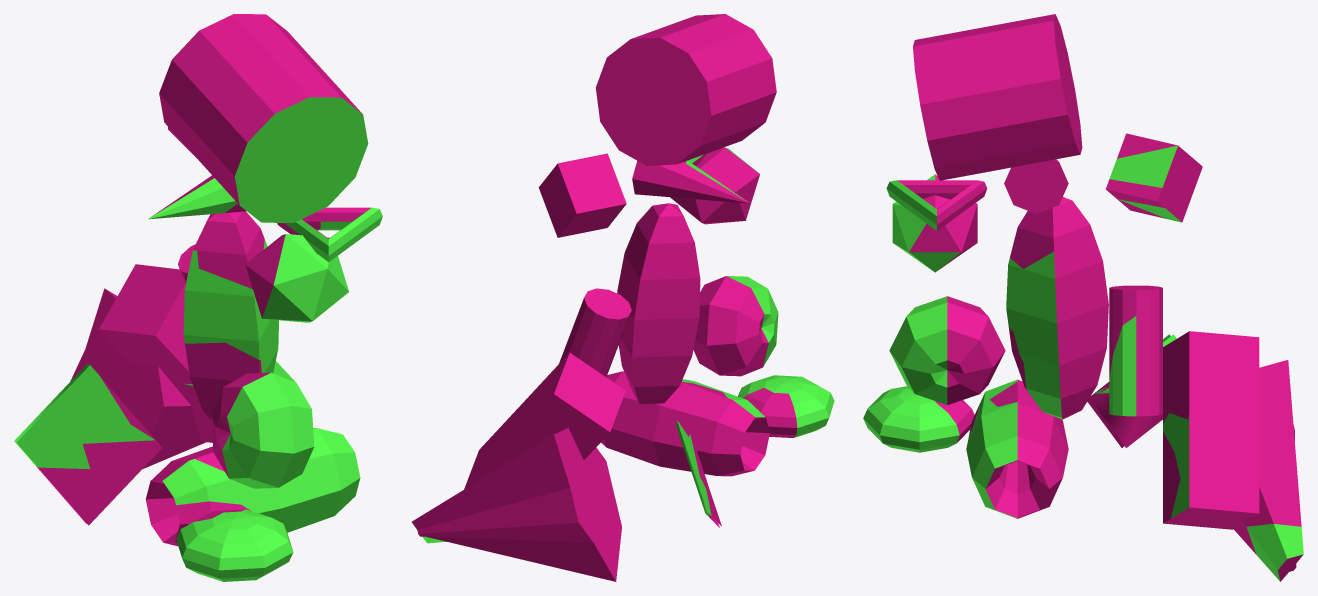
Rendered from SM_Ana_Pion.fbx.
The picture shows the model from 3 angles, left to right: view 1: azimuth 30°, elevation 25°; view 2: azimuth 150°, elevation 25°; view 3: azimuth 270°, elevation 25°; orthographic projection. The views are drawn at different scales.
Visible parts, largest first — view 1: Cylinder.003, Sphere.001, Torus.003, Plane, Torus.002, Cube.004, Cone.003, Sphere.002, Icosphere.002, Torus.001, Cone.002, Plane.003; view 2: Cylinder.003, Cone.003, Sphere.001, Torus.003, Cube.004, Torus.002, Cube.003, Sphere.002, Cylinder.004, Icosphere.002, Cone.002, Plane; view 3: Cylinder.003, Cube.004, Sphere.001, Torus.003, Torus.002, Cone.003, Cylinder.004, Cube.003, Sphere.002, Icosphere.002, Torus.001, Cone.002 (+1 smaller).
Part boxes in pixels (bbox=[...]): Cylinder.003: bbox=[159, 14, 368, 222]; Sphere.001: bbox=[183, 211, 278, 419]; Torus.003: bbox=[145, 428, 360, 546]; Plane: bbox=[16, 365, 161, 525]; Torus.002: bbox=[211, 372, 314, 488]; Cube.004: bbox=[99, 264, 295, 442]; Cone.003: bbox=[70, 288, 205, 469]; Sphere.002: bbox=[176, 509, 293, 581]; Icosphere.002: bbox=[245, 234, 348, 322]; Torus.001: bbox=[277, 207, 382, 261]; Cone.002: bbox=[148, 175, 246, 219]; Plane.003: bbox=[14, 363, 89, 523]; Cylinder.003: bbox=[596, 14, 776, 165]; Cone.003: bbox=[412, 427, 621, 581]; Sphere.001: bbox=[617, 203, 700, 405]; Torus.003: bbox=[601, 371, 769, 476]; Cube.004: bbox=[464, 352, 625, 489]; Torus.002: bbox=[693, 276, 778, 376]; Cube.003: bbox=[538, 153, 626, 237]; Sphere.002: bbox=[738, 375, 834, 437]; Cylinder.004: bbox=[559, 288, 631, 376]; Icosphere.002: bbox=[670, 147, 759, 224]; Cone.002: bbox=[632, 160, 749, 203]; Plane: bbox=[677, 420, 721, 526]; Cylinder.003: bbox=[913, 14, 1082, 180]; Cube.004: bbox=[1163, 331, 1259, 529]; Sphere.001: bbox=[1006, 197, 1108, 419]; Torus.003: bbox=[966, 379, 1068, 518]; Torus.002: bbox=[889, 296, 1005, 404]; Cone.003: bbox=[1233, 360, 1303, 581]; Cylinder.004: bbox=[1109, 285, 1162, 416]; Cube.003: bbox=[1105, 133, 1202, 222]; Sphere.002: bbox=[863, 386, 974, 452]; Icosphere.002: bbox=[892, 174, 977, 272]; Torus.001: bbox=[886, 180, 987, 230]; Cone.002: bbox=[1004, 159, 1068, 213].
Bounding box in the file's own units: 155 × 275 × 218.
